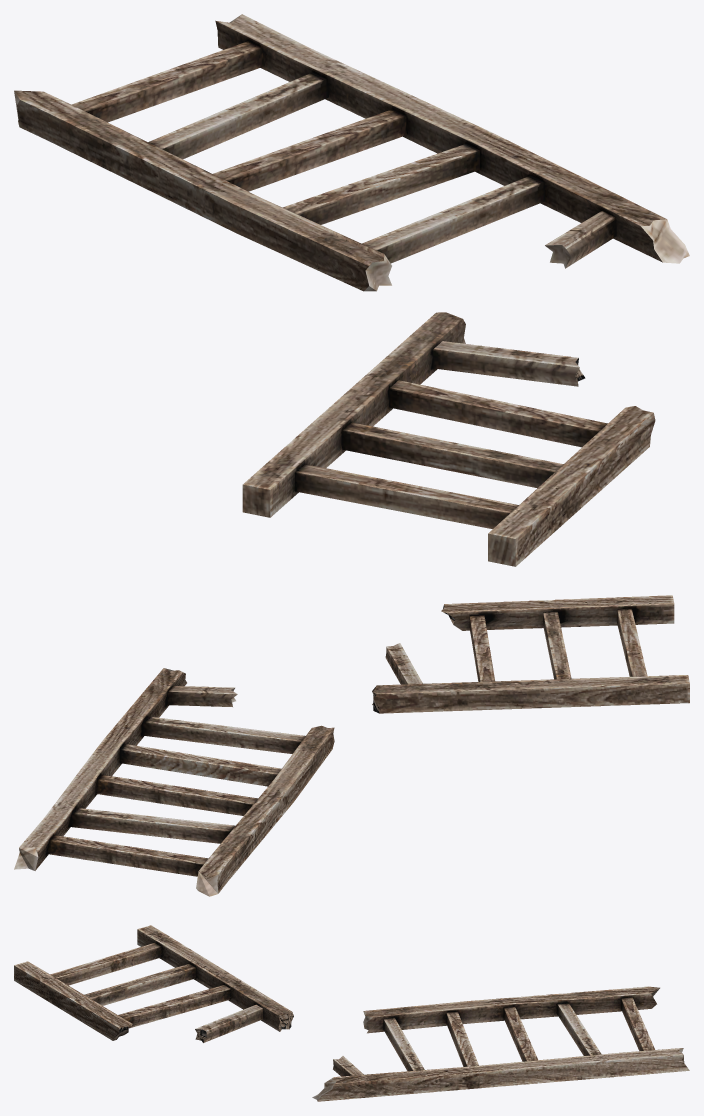
The model's file is ladder_broken_debris.dae.
3 views of the same model, one above another, from view 1: azimuth 30°, elevation 25°; view 2: azimuth 150°, elevation 25°; view 3: azimuth 270°, elevation 25° (orthographic). The views are drawn at different scales.
Visible parts, largest first — view 1: polySurface34; view 2: polySurface34; view 3: polySurface34.
Boxes of the visible parts, left/top/right/bottom form: polySurface34: left=14, top=14, right=689, bottom=566; polySurface34: left=14, top=595, right=689, bottom=896; polySurface34: left=14, top=925, right=689, bottom=1101.
Bounding box in the file's own units: 2.25 × 0.1 × 3.99.
